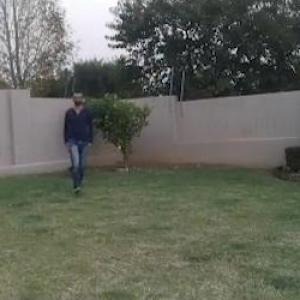follow: (64, 90, 94, 191)
